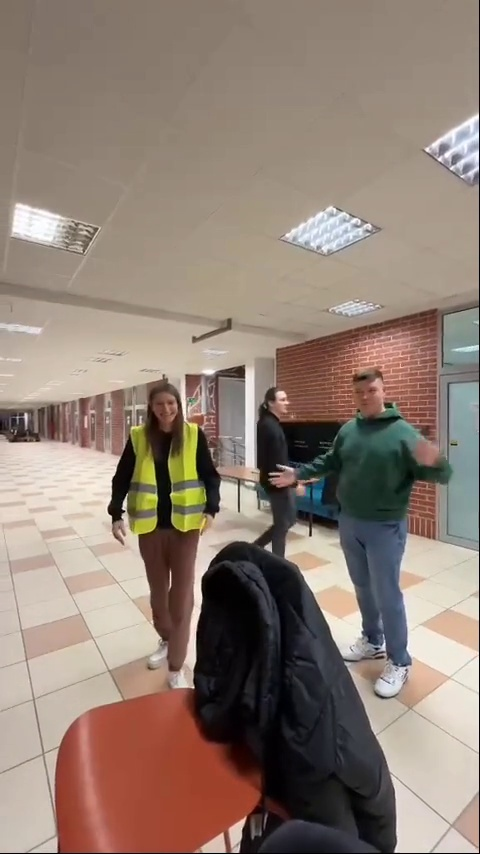no vest: (319, 364, 444, 687), (246, 385, 305, 572)
vest: (110, 378, 222, 695)
